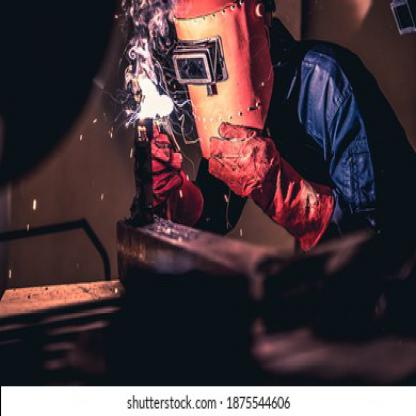with_gloves: (207, 120, 335, 250), (150, 126, 204, 226)
